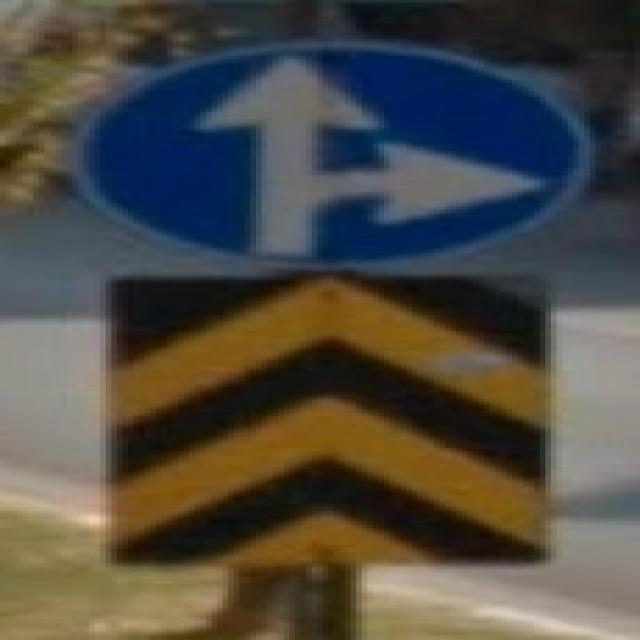Straight or Right: (82, 42, 571, 269)
